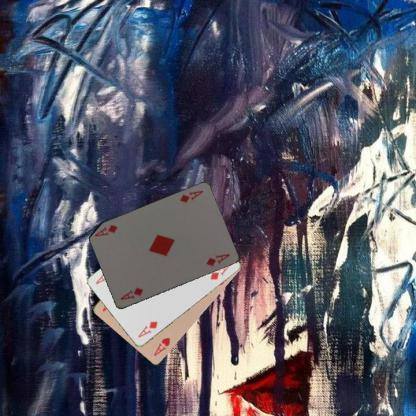Ad: (135, 319, 159, 339), (118, 286, 144, 302), (178, 188, 204, 204)
Ah: (150, 335, 172, 358)
